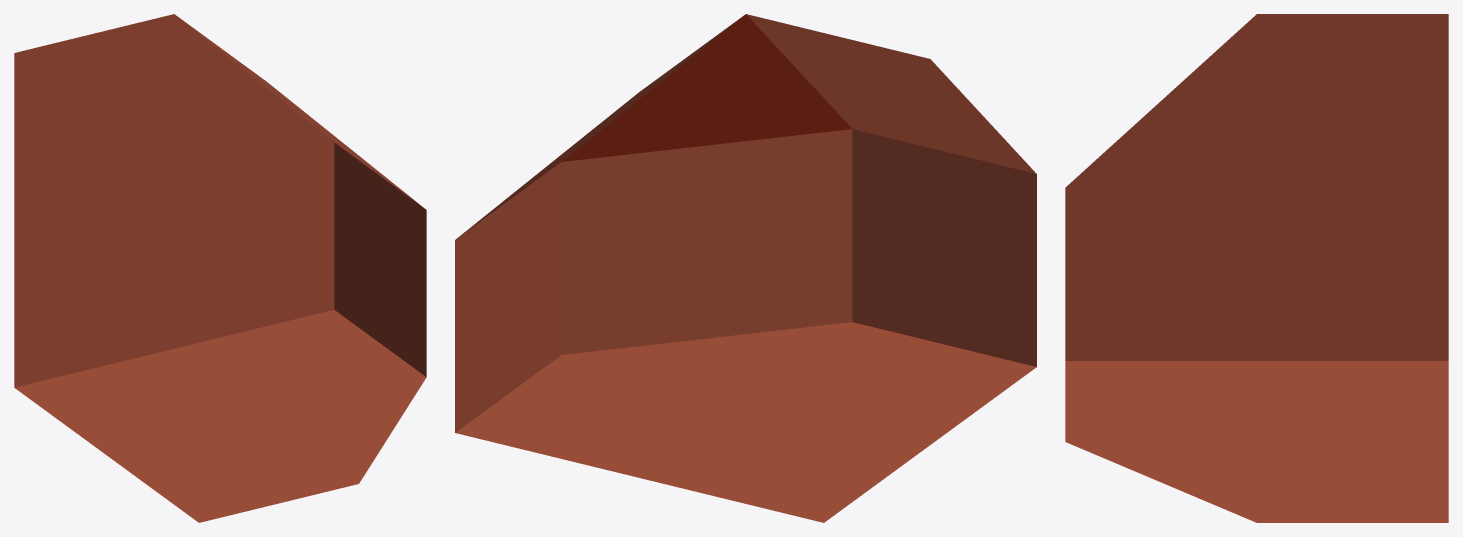
Rendered from r5c6_border_brown.gltf.
3 views of the same model, side by side, from view 1: azimuth 30°, elevation 25°; view 2: azimuth 150°, elevation 25°; view 3: azimuth 270°, elevation 25° (orthographic). The views are drawn at different scales.
Parts seen in each view (by area): view 1: r5c6_border_brown; view 2: r5c6_border_brown; view 3: r5c6_border_brown.
Boxes of the visible parts, <box> form: r5c6_border_brown: <box>14,14,426,522</box>; r5c6_border_brown: <box>455,14,1036,522</box>; r5c6_border_brown: <box>1065,14,1448,522</box>.
Size of the model in its own units: 2.1 by 2.1 by 2.1.
1 material, 1 textured.
